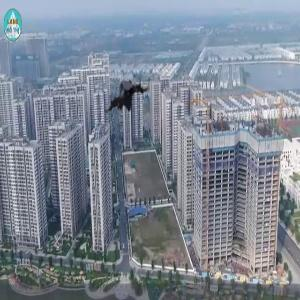drone: (100, 75, 157, 132)
